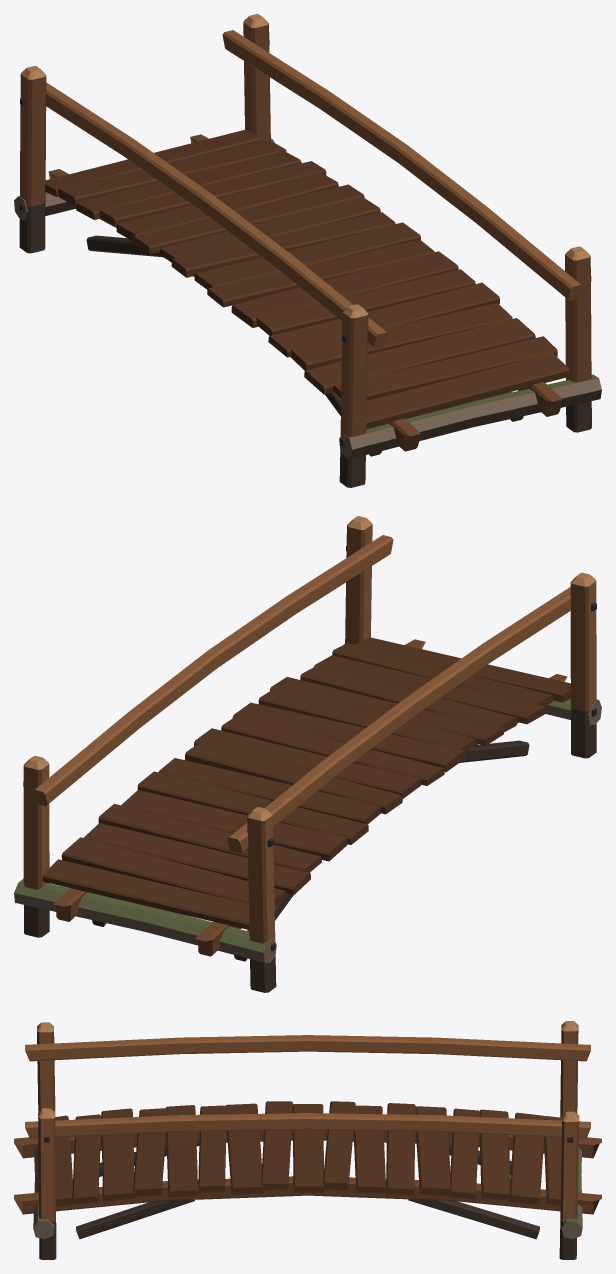
The model's file is bridge.glb.
3 views of the same model, one above another, from view 1: azimuth 30°, elevation 25°; view 2: azimuth 150°, elevation 25°; view 3: azimuth 270°, elevation 25° (orthographic). The views are drawn at different scales.
Visible parts, largest first — view 1: Bridge_Deck, Bridge_Rails, Bridge_Posts, Bridge_Sills, Bridge_Stringers, Bridge_Bracing; view 2: Bridge_Deck, Bridge_Rails, Bridge_Posts, Bridge_Sills, Bridge_Stringers, Bridge_Bracing; view 3: Bridge_Deck, Bridge_Rails, Bridge_Posts, Bridge_Stringers, Bridge_Bracing, Bridge_Sills.
Boxes of the visible parts, left/top/right/bottom form: Bridge_Deck: left=45, top=129, right=569, bottom=429; Bridge_Rails: left=45, top=30, right=583, bottom=348; Bridge_Posts: left=19, top=14, right=591, bottom=487; Bridge_Sills: left=14, top=138, right=601, bottom=458; Bridge_Stringers: left=48, top=134, right=562, bottom=451; Bridge_Bracing: left=86, top=235, right=523, bottom=456; Bridge_Deck: left=42, top=637, right=571, bottom=929; Bridge_Rails: left=32, top=535, right=570, bottom=853; Bridge_Posts: left=23, top=516, right=596, bottom=992; Bridge_Sills: left=14, top=644, right=601, bottom=963; Bridge_Stringers: left=53, top=639, right=567, bottom=956; Bridge_Bracing: left=92, top=740, right=529, bottom=961; Bridge_Deck: left=55, top=1101, right=561, bottom=1206; Bridge_Rails: left=25, top=1035, right=590, bottom=1138; Bridge_Posts: left=37, top=1021, right=579, bottom=1259; Bridge_Stringers: left=14, top=1130, right=601, bottom=1214; Bridge_Bracing: left=76, top=1143, right=539, bottom=1239; Bridge_Sills: left=33, top=1145, right=582, bottom=1239.
Bounding box in the file's own units: 2.77 × 1.88 × 6.9.
Materials: 1 (1 with a texture image).
